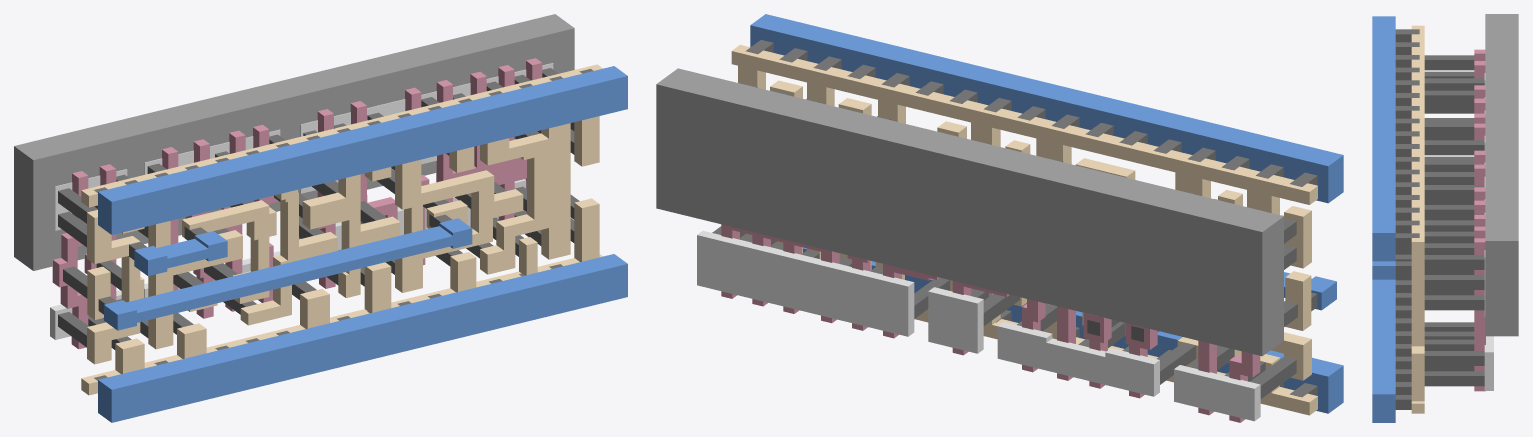
Rendered from sky130_fd_sc_hd__dlclkp_4.gds.gltf.
The picture shows the model from 3 angles, left to right: view 1: azimuth 30°, elevation 25°; view 2: azimuth 150°, elevation 25°; view 3: azimuth 270°, elevation 25°; orthographic projection. The views are drawn at different scales.
Visible parts, largest first — view 1: sky130_fd_sc_hd__dlclkp_4_met1, sky130_fd_sc_hd__dlclkp_4_li1, sky130_fd_sc_hd__dlclkp_4_nwell, sky130_fd_sc_hd__dlclkp_4_poly, sky130_fd_sc_hd__dlclkp_4_licon, sky130_fd_sc_hd__dlclkp_4_diff, sky130_fd_sc_hd__dlclkp_4_mcon; view 2: sky130_fd_sc_hd__dlclkp_4_nwell, sky130_fd_sc_hd__dlclkp_4_diff, sky130_fd_sc_hd__dlclkp_4_li1, sky130_fd_sc_hd__dlclkp_4_met1, sky130_fd_sc_hd__dlclkp_4_poly, sky130_fd_sc_hd__dlclkp_4_licon, sky130_fd_sc_hd__dlclkp_4_mcon; view 3: sky130_fd_sc_hd__dlclkp_4_licon, sky130_fd_sc_hd__dlclkp_4_nwell, sky130_fd_sc_hd__dlclkp_4_met1, sky130_fd_sc_hd__dlclkp_4_mcon, sky130_fd_sc_hd__dlclkp_4_li1, sky130_fd_sc_hd__dlclkp_4_poly, sky130_fd_sc_hd__dlclkp_4_diff.
Boxes of the visible parts, left/top/right/bottom form: sky130_fd_sc_hd__dlclkp_4_met1: left=98, top=66, right=627, bottom=422; sky130_fd_sc_hd__dlclkp_4_li1: left=81, top=64, right=602, bottom=395; sky130_fd_sc_hd__dlclkp_4_nwell: left=14, top=14, right=574, bottom=270; sky130_fd_sc_hd__dlclkp_4_poly: left=52, top=58, right=542, bottom=349; sky130_fd_sc_hd__dlclkp_4_licon: left=58, top=68, right=579, bottom=349; sky130_fd_sc_hd__dlclkp_4_diff: left=50, top=63, right=553, bottom=339; sky130_fd_sc_hd__dlclkp_4_mcon: left=94, top=68, right=593, bottom=380; sky130_fd_sc_hd__dlclkp_4_nwell: left=656, top=68, right=1283, bottom=356; sky130_fd_sc_hd__dlclkp_4_diff: left=697, top=230, right=1260, bottom=421; sky130_fd_sc_hd__dlclkp_4_li1: left=731, top=44, right=1317, bottom=415; sky130_fd_sc_hd__dlclkp_4_met1: left=750, top=14, right=1343, bottom=413; sky130_fd_sc_hd__dlclkp_4_poly: left=721, top=224, right=1260, bottom=422; sky130_fd_sc_hd__dlclkp_4_licon: left=712, top=83, right=1297, bottom=398; sky130_fd_sc_hd__dlclkp_4_mcon: left=745, top=40, right=1317, bottom=397; sky130_fd_sc_hd__dlclkp_4_licon: left=1424, top=55, right=1484, bottom=386; sky130_fd_sc_hd__dlclkp_4_nwell: left=1485, top=14, right=1518, bottom=336; sky130_fd_sc_hd__dlclkp_4_met1: left=1372, top=16, right=1395, bottom=422; sky130_fd_sc_hd__dlclkp_4_mcon: left=1395, top=29, right=1419, bottom=409; sky130_fd_sc_hd__dlclkp_4_li1: left=1411, top=25, right=1424, bottom=413; sky130_fd_sc_hd__dlclkp_4_poly: left=1474, top=49, right=1485, bottom=391; sky130_fd_sc_hd__dlclkp_4_diff: left=1484, top=73, right=1493, bottom=390.
Bounding box in the file's own units: 8.2 × 3.2 × 2.24.
